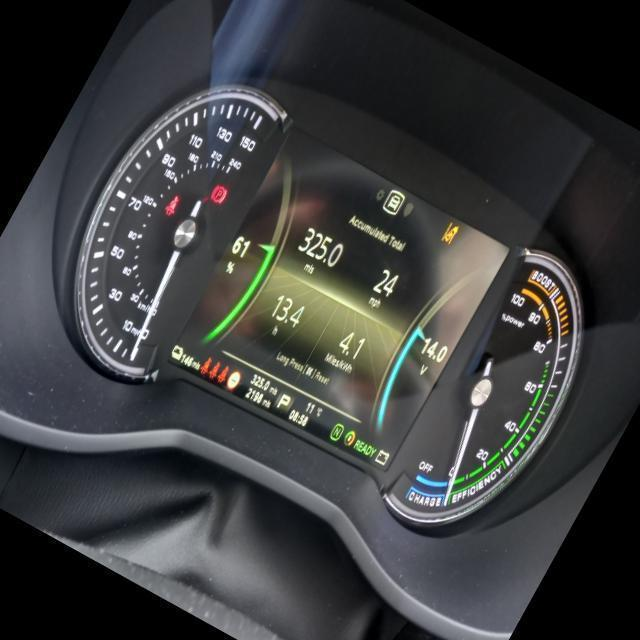Seat Belt: (162, 194, 182, 217), (197, 357, 211, 374), (208, 360, 220, 378), (218, 366, 229, 384)
